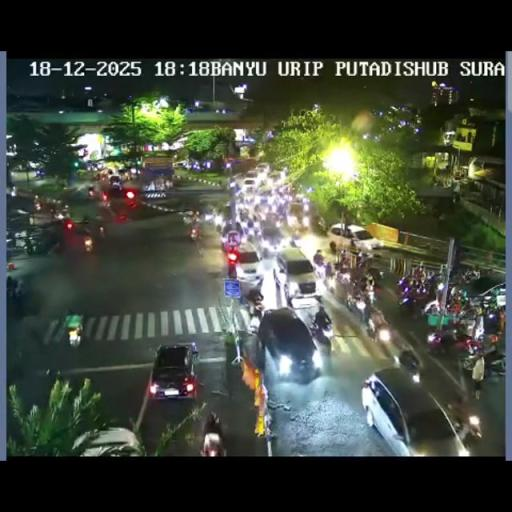Car: (362, 364, 469, 454), (257, 307, 322, 383), (148, 342, 198, 400), (278, 248, 320, 306), (78, 426, 142, 455), (327, 222, 382, 252), (229, 240, 262, 283), (468, 279, 507, 314), (258, 224, 286, 254), (286, 200, 310, 234), (240, 170, 262, 188), (224, 230, 241, 248), (254, 162, 270, 176), (267, 171, 284, 183), (108, 175, 122, 188), (173, 160, 189, 168)
Motorcycle: (398, 274, 436, 315), (344, 288, 370, 326), (480, 341, 506, 378), (201, 414, 225, 454), (448, 332, 482, 358), (460, 352, 482, 392), (367, 304, 390, 342), (398, 348, 420, 382), (480, 306, 503, 336), (460, 410, 482, 440), (454, 301, 482, 324), (456, 267, 481, 286), (322, 266, 338, 292), (246, 286, 264, 308), (248, 306, 262, 333), (6, 276, 20, 302), (365, 266, 382, 287), (188, 212, 201, 239), (356, 249, 373, 269), (68, 325, 82, 347), (4, 234, 18, 256), (435, 210, 449, 232), (45, 366, 62, 382), (98, 191, 112, 207), (290, 228, 302, 246), (339, 256, 351, 273), (24, 236, 34, 255), (83, 235, 93, 252), (59, 204, 71, 218), (348, 238, 358, 254), (75, 216, 90, 225), (452, 190, 460, 204), (318, 217, 326, 230), (98, 224, 105, 238), (330, 240, 336, 254), (165, 178, 172, 190), (216, 224, 222, 234), (34, 202, 40, 211)
